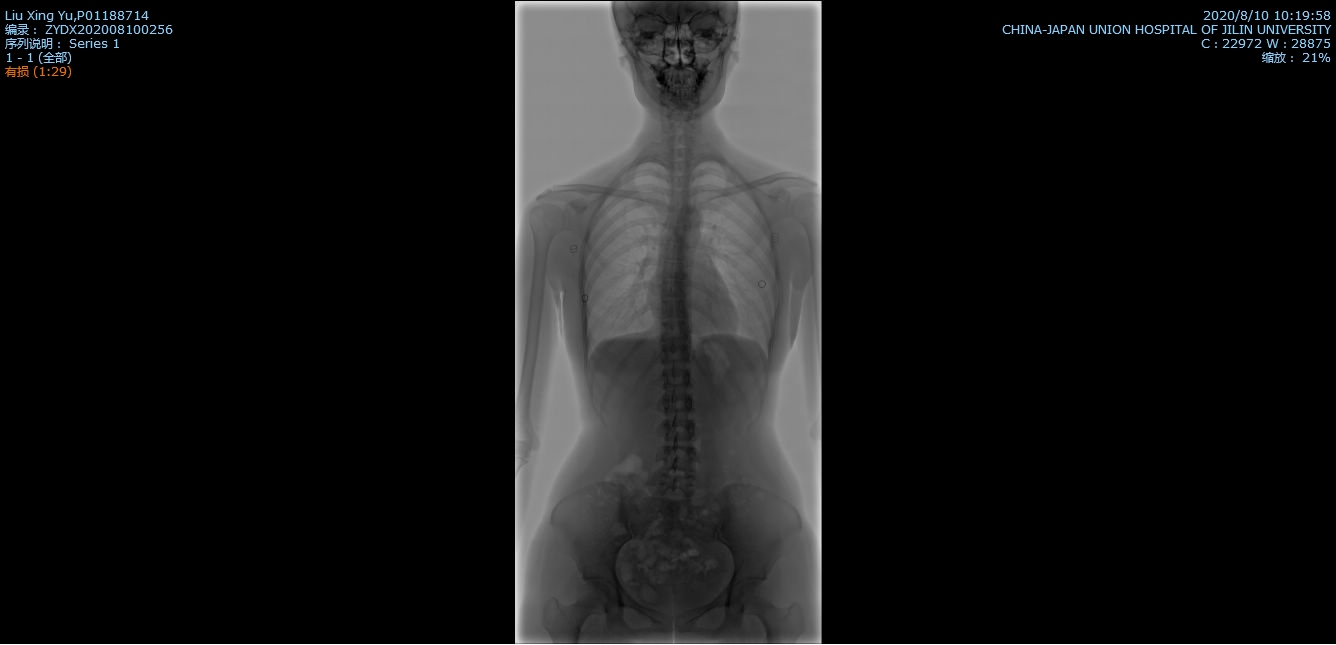Bone: (658, 474, 697, 494), (662, 419, 694, 440), (662, 447, 697, 466), (659, 322, 690, 340), (660, 394, 694, 410), (661, 346, 690, 364), (662, 371, 691, 387), (662, 280, 687, 297), (663, 242, 690, 257), (662, 301, 685, 318), (661, 260, 685, 274)
